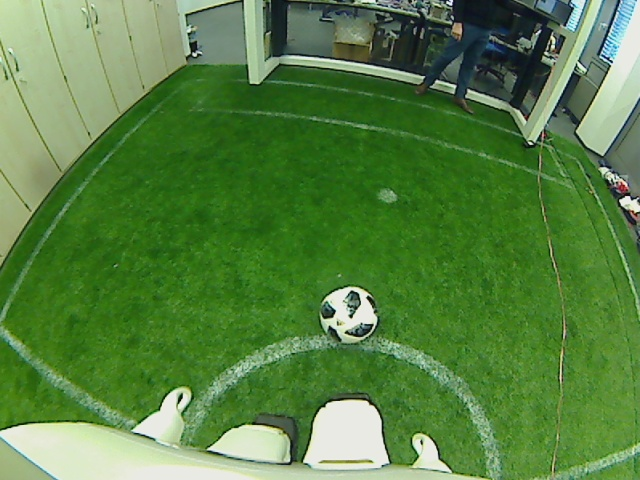ball: (317, 283, 380, 344)
